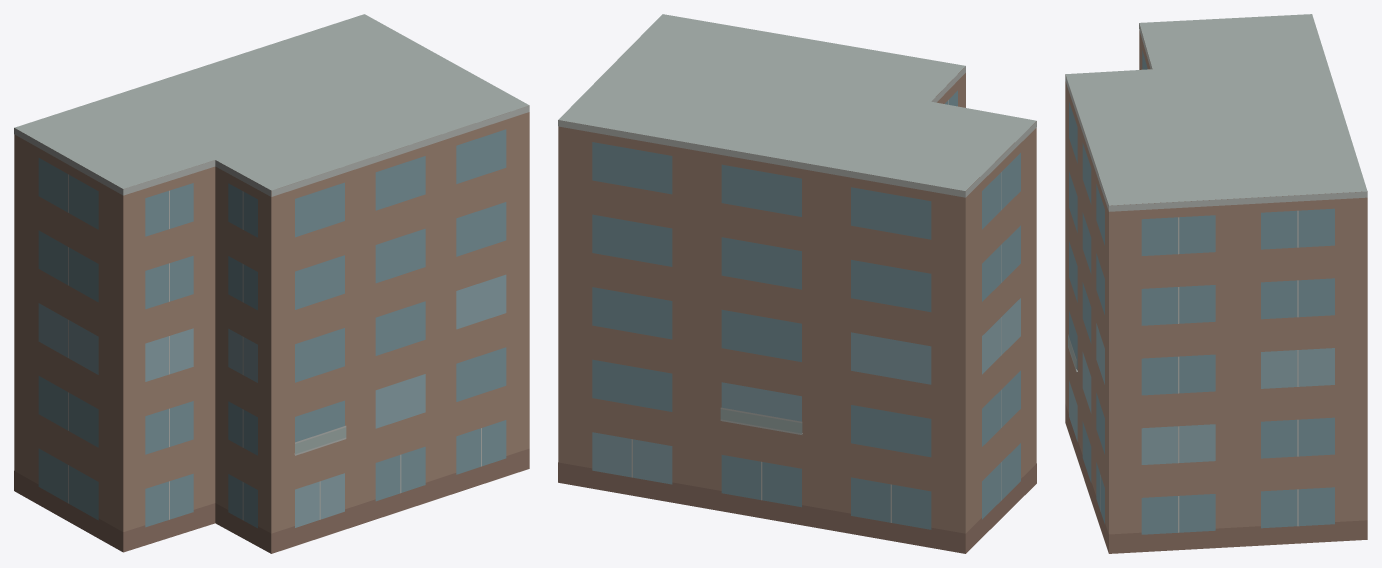
File: survey-upis-32530515.glb
3 views of the same model, side by side, from view 1: azimuth 30°, elevation 25°; view 2: azimuth 150°, elevation 25°; view 3: azimuth 270°, elevation 25° (orthographic). The views are drawn at different scales.
Parts seen in each view (by area): view 1: survey-upis-32530515.tmp; view 2: survey-upis-32530515.tmp; view 3: survey-upis-32530515.tmp.
Boxes of the visible parts, bbox=[...] form: survey-upis-32530515.tmp: bbox=[14, 14, 529, 553]; survey-upis-32530515.tmp: bbox=[558, 14, 1036, 553]; survey-upis-32530515.tmp: bbox=[1065, 14, 1367, 553].
Size of the model in its own units: 16.05 by 13.6 by 10.71.
